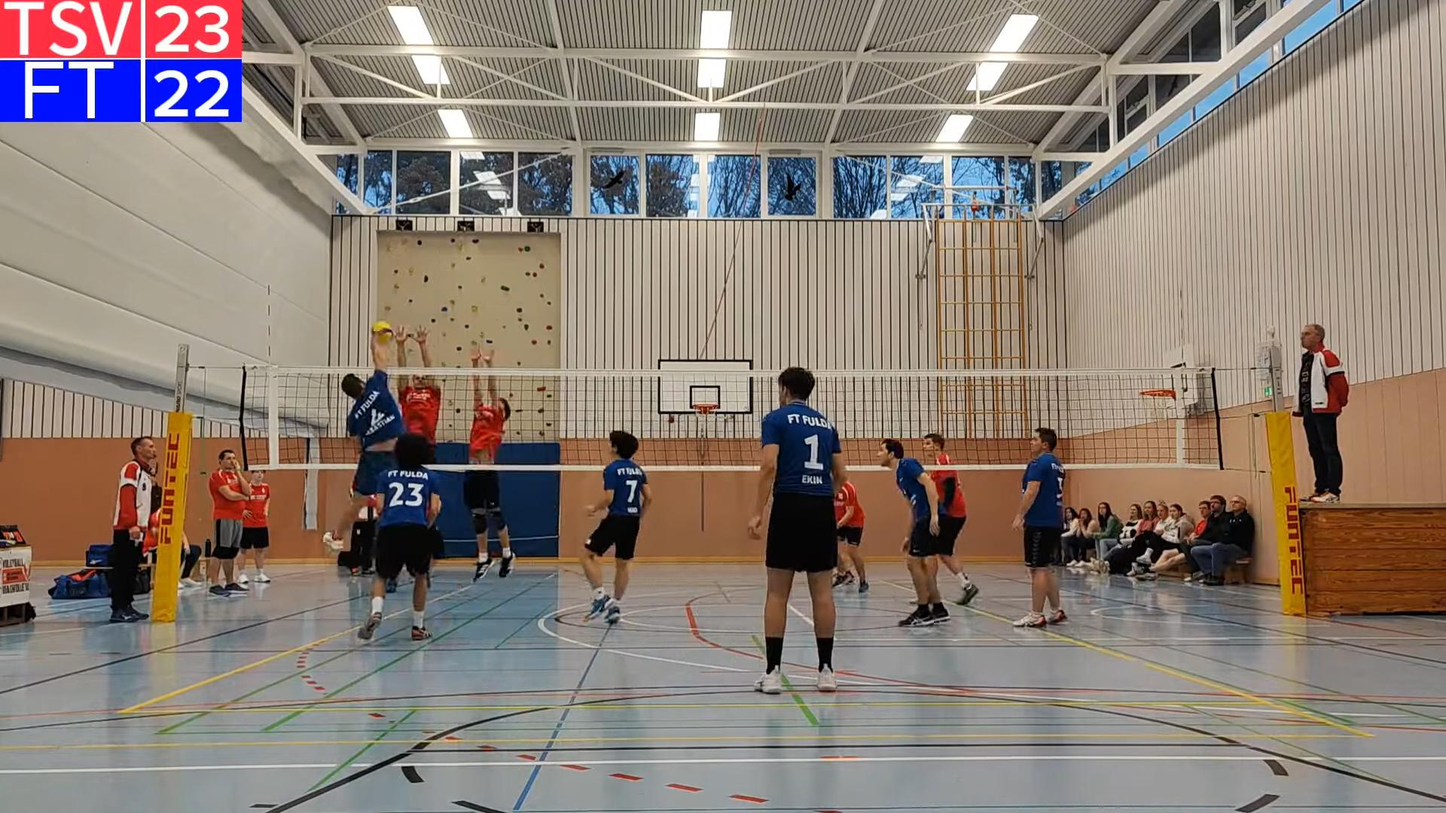attacco: (321, 333, 403, 552)
muro: (461, 344, 526, 582), (392, 321, 449, 467)
